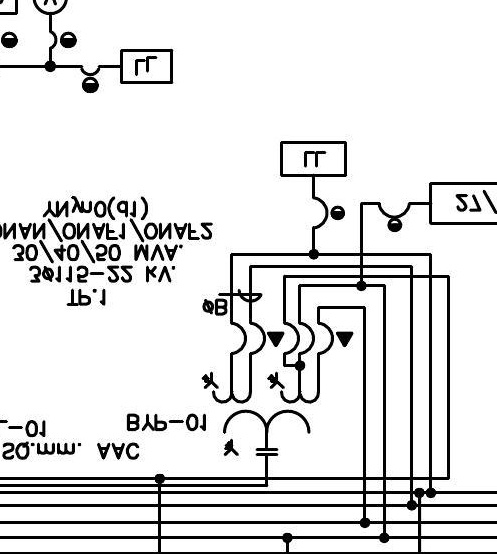115_cvt_3p: (201, 371, 321, 456)
LL: (280, 141, 347, 177), (120, 48, 173, 84)
